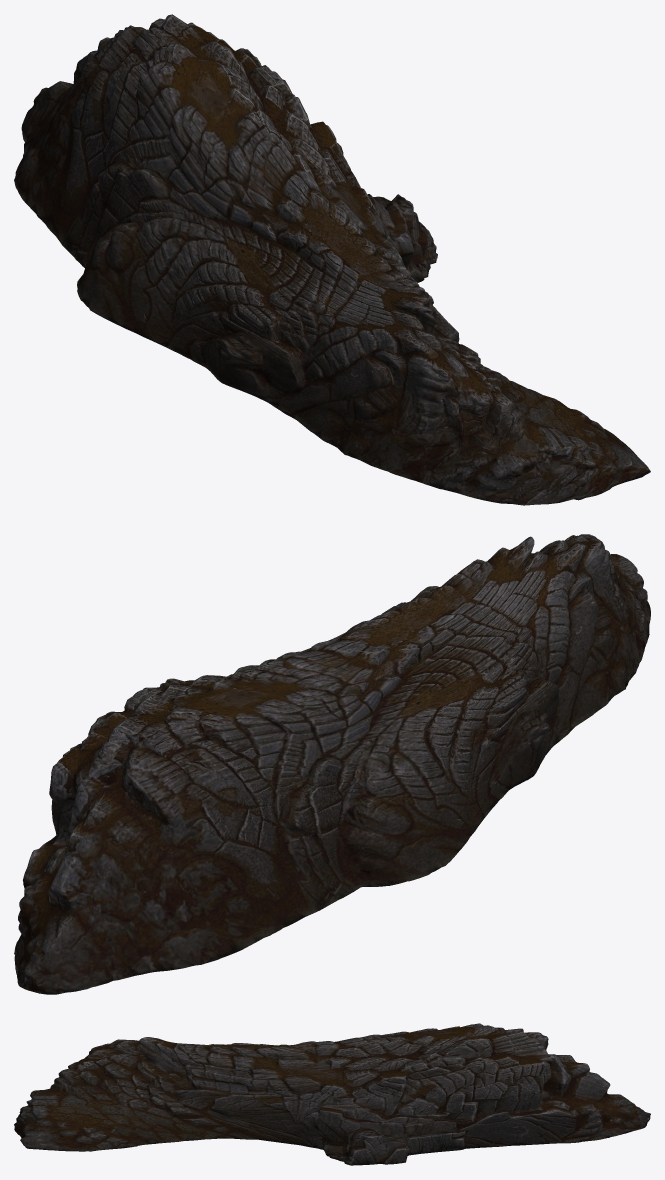
The model's file is Rock_02_Broken_Ridge.fbx.
3 renders of one model, top to bottom at view 1: azimuth 30°, elevation 25°; view 2: azimuth 150°, elevation 25°; view 3: azimuth 270°, elevation 25°, orthographic. The views are drawn at different scales.
Parts seen in each view (by area): view 1: Rock_02_Broken_Ridge; view 2: Rock_02_Broken_Ridge; view 3: Rock_02_Broken_Ridge.
Part boxes in pixels (x1,y1,x2,y2): Rock_02_Broken_Ridge: (14,14,650,505); Rock_02_Broken_Ridge: (14,534,650,994); Rock_02_Broken_Ridge: (14,1023,650,1165).
Bounding box in the file's own units: 52.55 × 26.66 × 156.
Materials: 1 (1 with a texture image).
